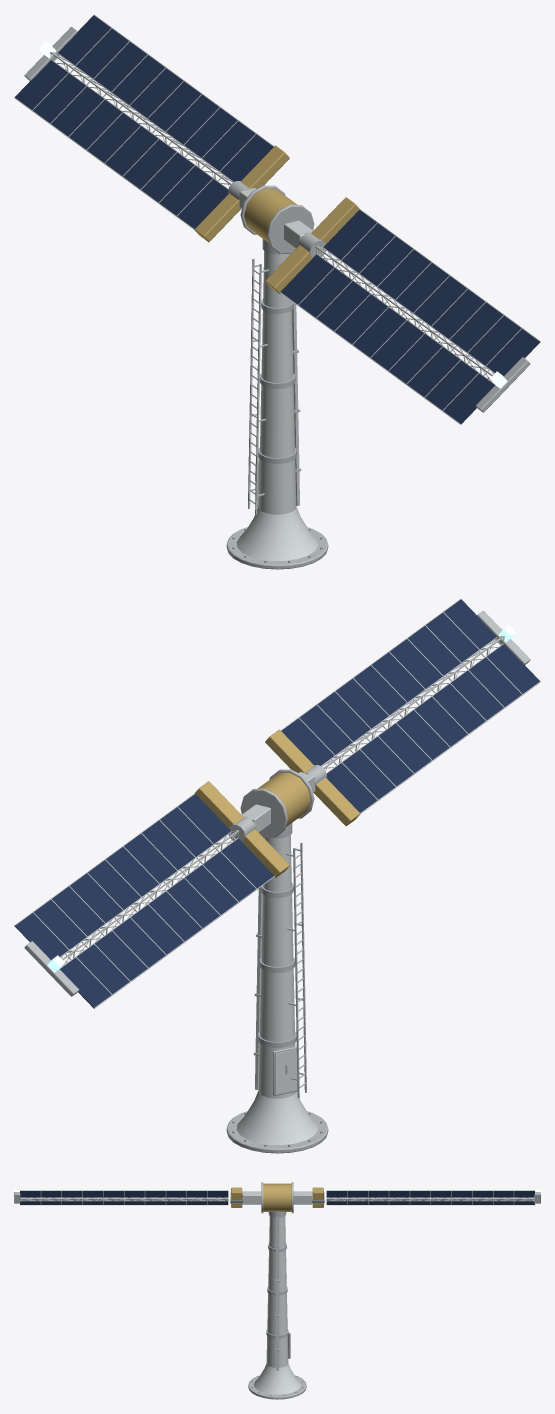
Rendered from solar_wing.glb.
3 views of the same model, one above another, from view 1: azimuth 30°, elevation 25°; view 2: azimuth 150°, elevation 25°; view 3: azimuth 270°, elevation 25° (orthographic). The views are drawn at different scales.
Parts seen in each view (by area): view 1: solar_wing; view 2: solar_wing; view 3: solar_wing.
Boxes of the visible parts, x1=… form: solar_wing: x1=14, y1=14, x2=540, y2=569; solar_wing: x1=14, y1=598, x2=540, y2=1153; solar_wing: x1=14, y1=1182, x2=540, y2=1399.
Size of the model in its own units: 3.1 by 12.25 by 27.85.
